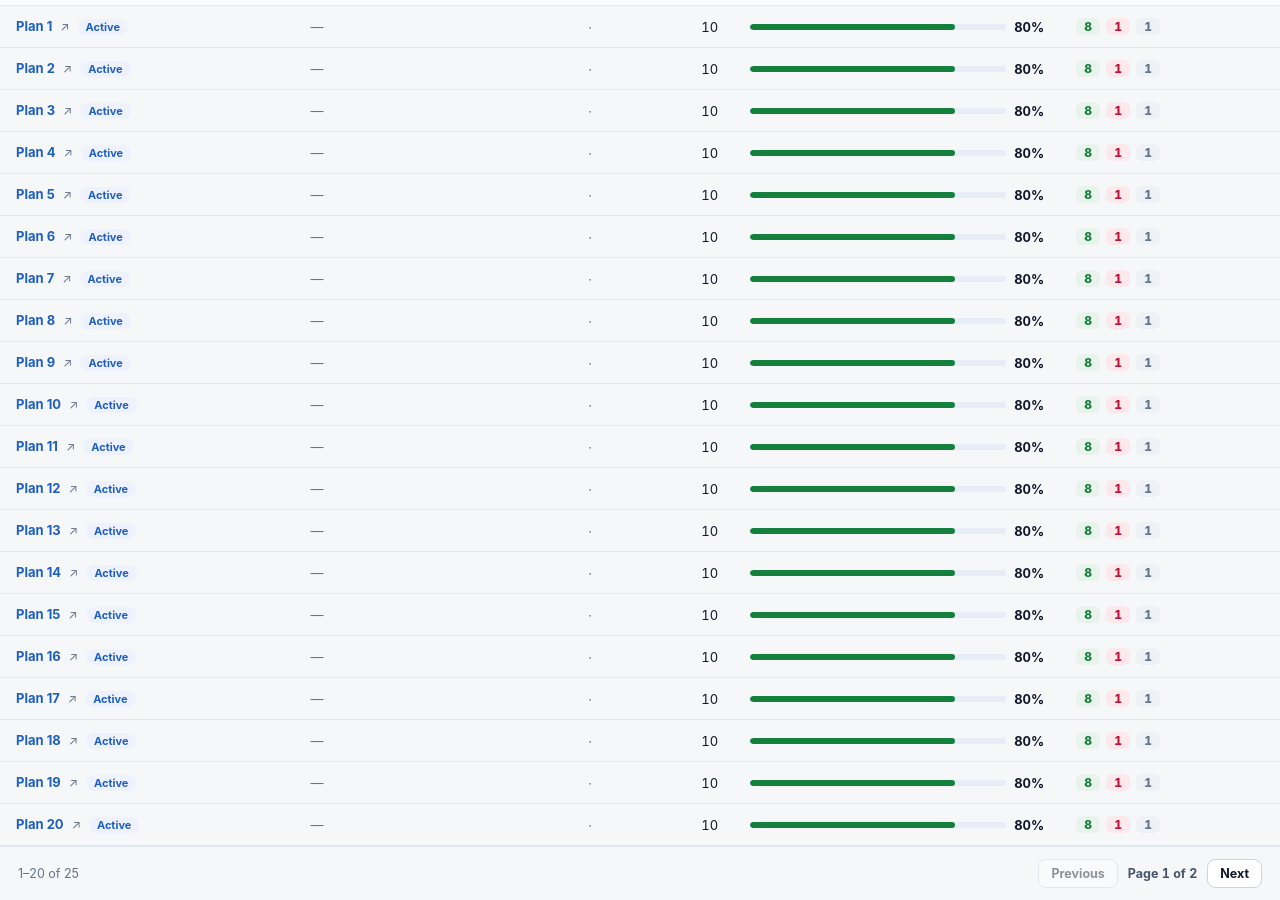
it: PlanList › paginates at 20 per page with prev/next
The width and height of the screenshot is (1280, 900).
(page scrolled)
Check: the button "Plan 1" is shown, box x1=16 y1=18 x2=52 y2=34
Check: the button "Plan 20" is shown, box x1=16 y1=816 x2=64 y2=832
Click the button "Next" at (1235, 874), box x1=1207 y1=859 x2=1262 y2=888
(page scrolled)
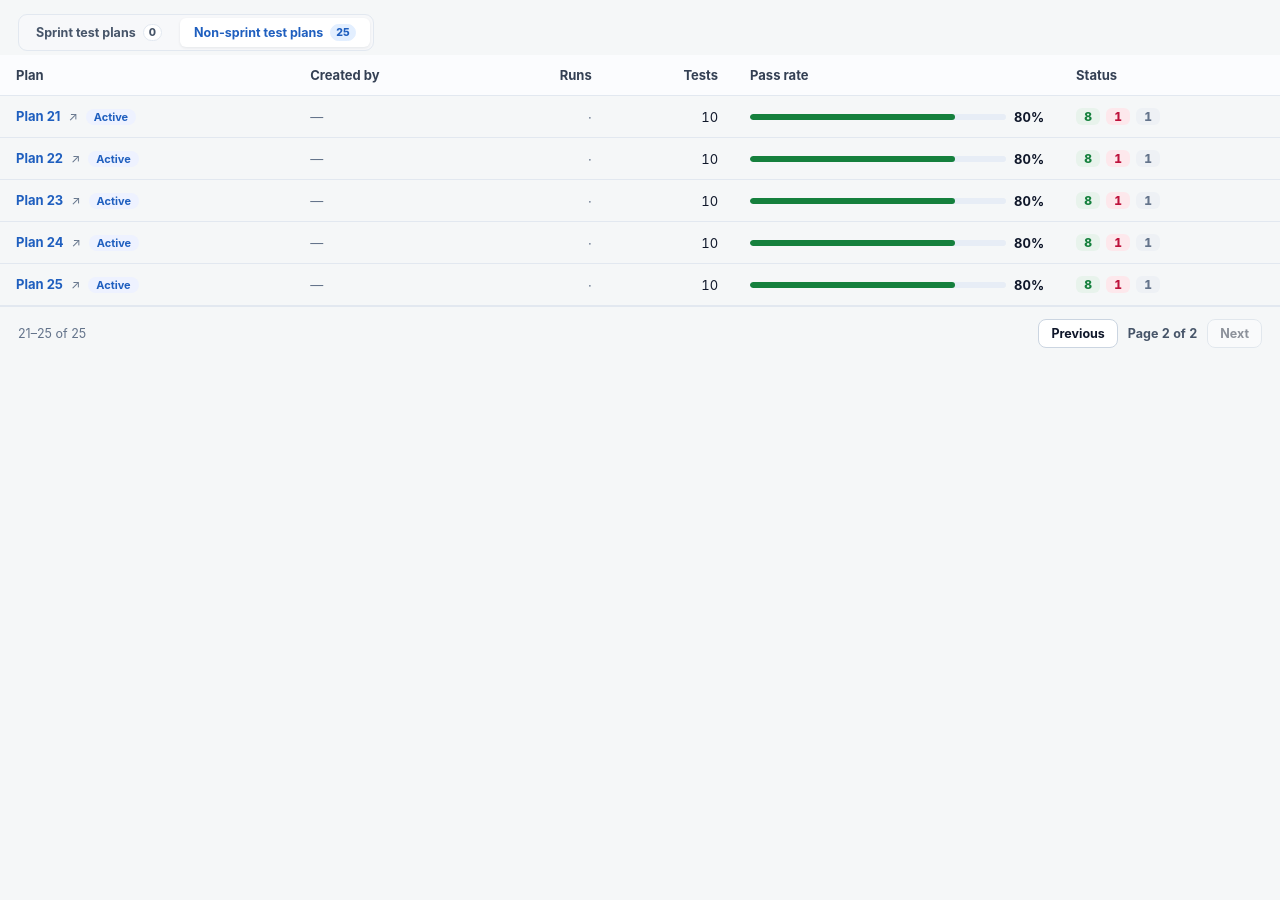
Check: the button "Plan 21" is shown, box x1=16 y1=108 x2=60 y2=124
Check: the button "Plan 25" is shown, box x1=16 y1=276 x2=63 y2=292
Check: the button "Plan 1" is gone
